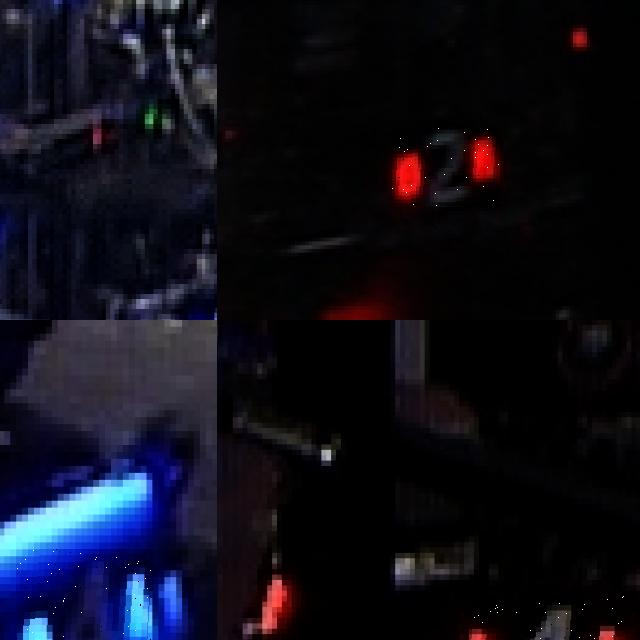B4: (16, 549, 152, 640)
R2: (392, 127, 500, 207)
R4: (469, 596, 626, 640)
